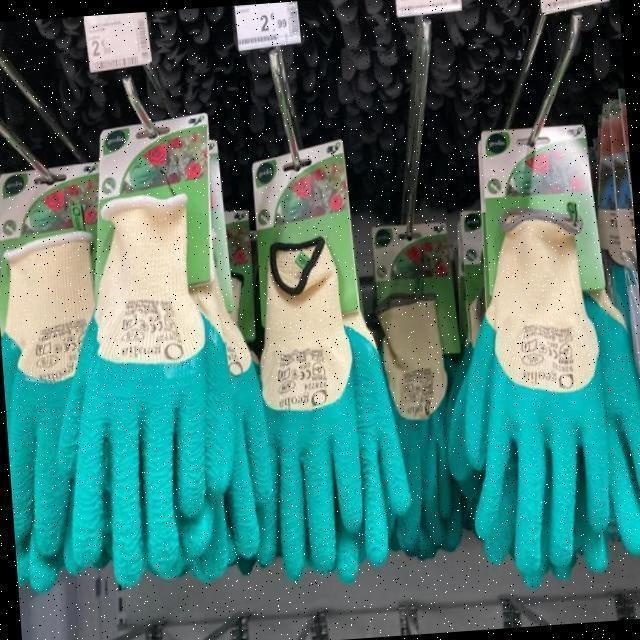Guantes: (470, 268, 626, 575), (73, 276, 226, 556), (239, 290, 394, 548)
